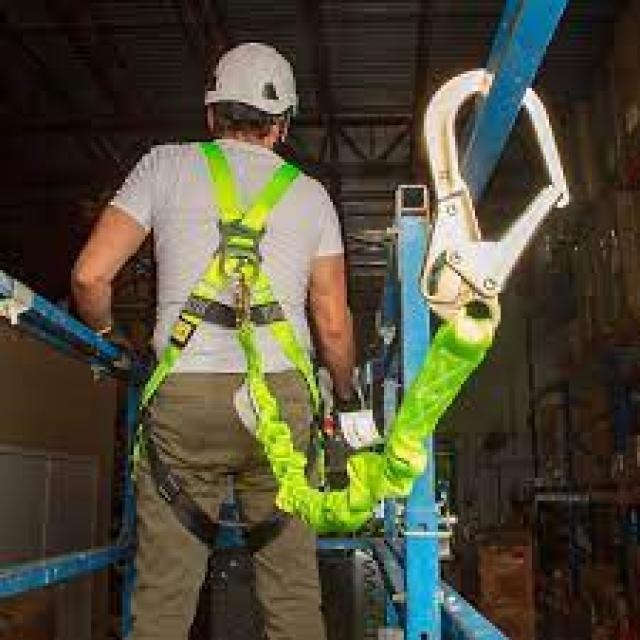Arnes_seguridad: (150, 140, 312, 400)
